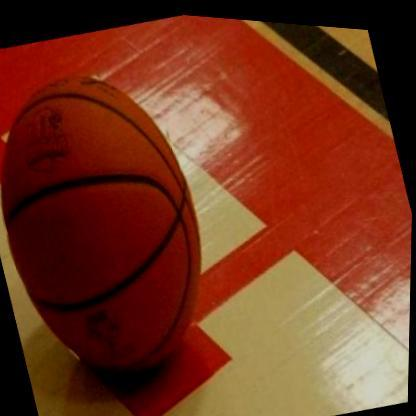basketball: (0, 39, 238, 406)
